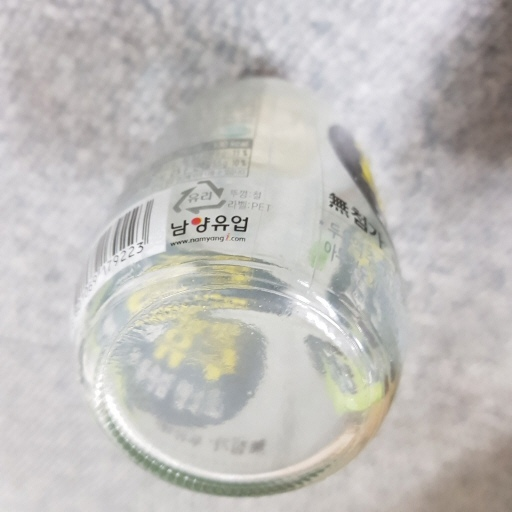Glass_4: (75, 66, 405, 498)
